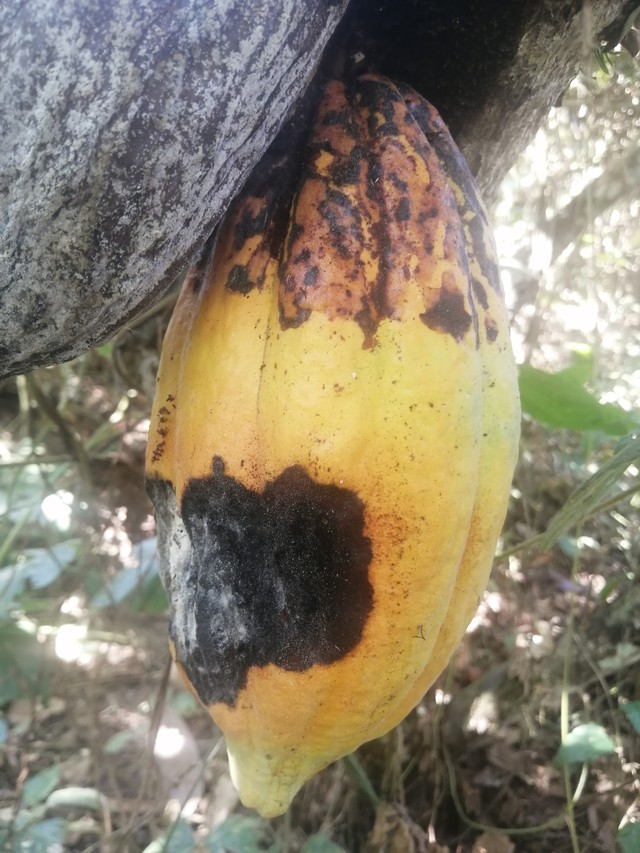moniliophthora roreri: (109, 73, 563, 821)
